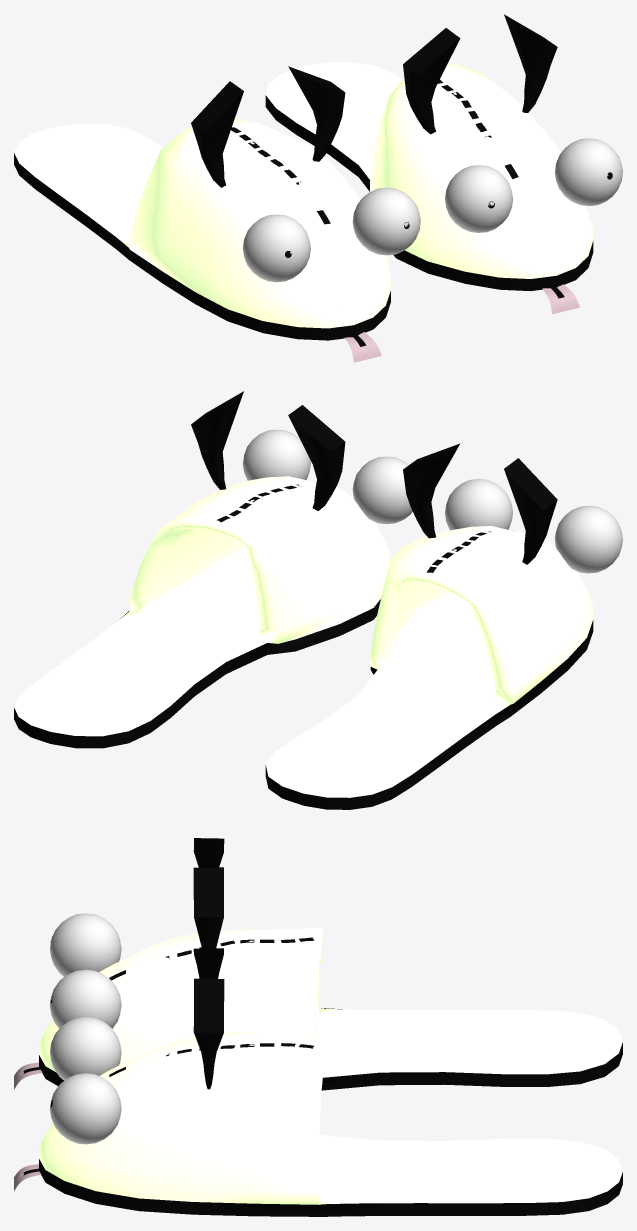
File: GirSlippers.fbx
The picture shows the model from 3 angles, top to bottom: view 1: azimuth 30°, elevation 25°; view 2: azimuth 150°, elevation 25°; view 3: azimuth 270°, elevation 25°; orthographic projection. The views are drawn at different scales.
Parts seen in each view (by area): view 1: RightShoe, LeftShoe, LeftEyes, RightEyes, LEars, REars, RTongue, LTongue; view 2: LeftShoe, RightShoe, RightEyes, LeftEyes, LEars, REars; view 3: LeftShoe, RightShoe, LeftEyes, RightEyes, LEars, REars.
Part boxes in pixels (left/top/right/bottom): RightShoe: left=14, top=119, right=390, bottom=340; LeftShoe: left=265, top=62, right=593, bottom=291; LeftEyes: left=445, top=138, right=622, bottom=232; RightEyes: left=242, top=187, right=420, bottom=282; LEars: left=403, top=14, right=557, bottom=134; REars: left=191, top=66, right=345, bottom=187; RTongue: left=344, top=332, right=381, bottom=362; LTongue: left=542, top=284, right=579, bottom=314; LeftShoe: left=14, top=476, right=390, bottom=748; RightShoe: left=265, top=526, right=593, bottom=809; RightEyes: left=445, top=479, right=622, bottom=573; LeftEyes: left=242, top=429, right=412, bottom=524; LEars: left=191, top=391, right=345, bottom=510; REars: left=403, top=443, right=557, bottom=564; LeftShoe: left=39, top=1032, right=622, bottom=1216; RightShoe: left=39, top=927, right=622, bottom=1090; LeftEyes: left=50, top=1017, right=121, bottom=1144; RightEyes: left=50, top=913, right=121, bottom=1028; LEars: left=193, top=948, right=224, bottom=1089; REars: left=193, top=838, right=224, bottom=948.
Size of the model in its own units: 3.32 by 1.78 by 4.35.
